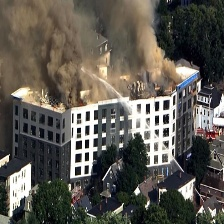smoke: (3, 1, 183, 107)
